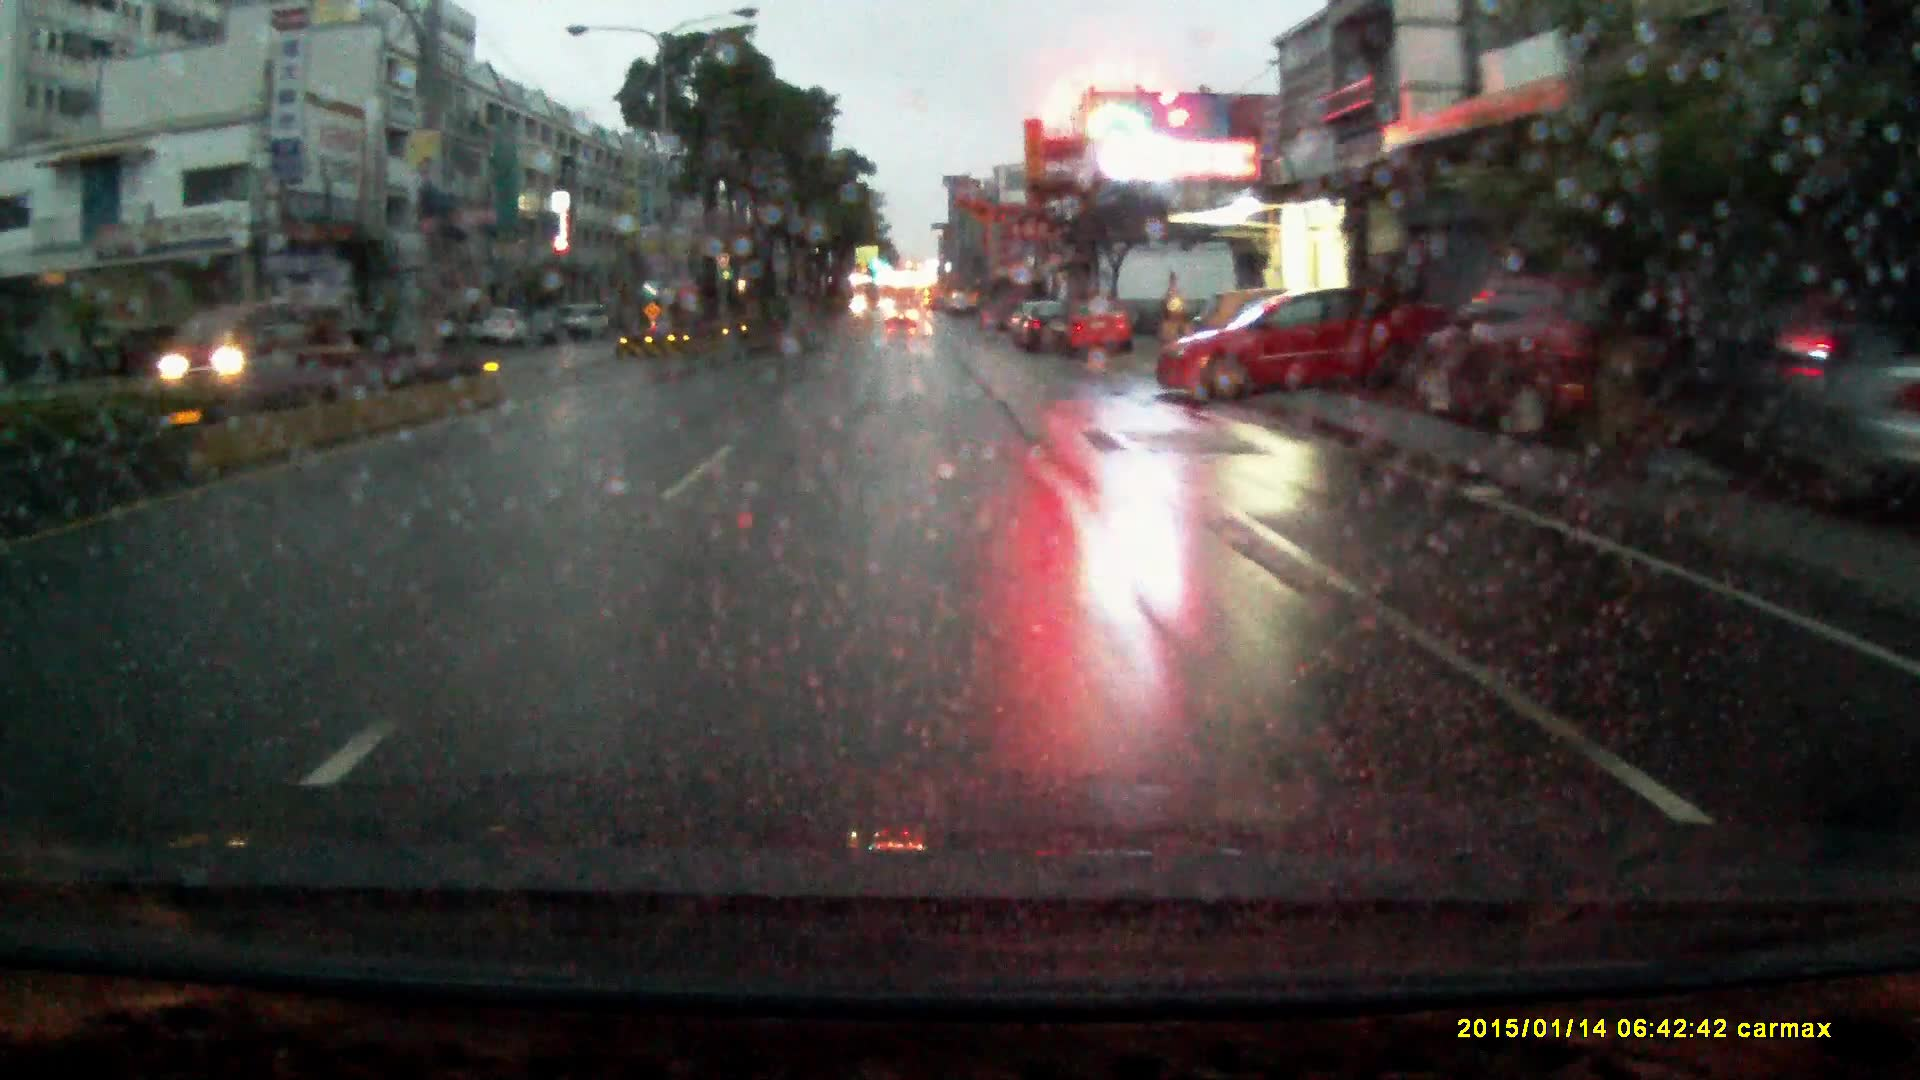vehicle: (1415, 276, 1712, 444), (1153, 291, 1448, 405), (154, 301, 316, 384), (1054, 305, 1137, 359), (1011, 303, 1075, 353), (556, 301, 615, 340), (479, 306, 527, 349), (887, 302, 918, 330)
